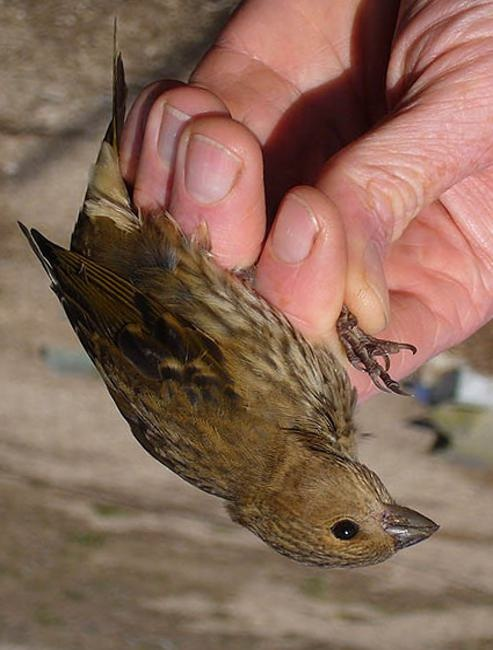rosefinch: (47, 177, 447, 584)
